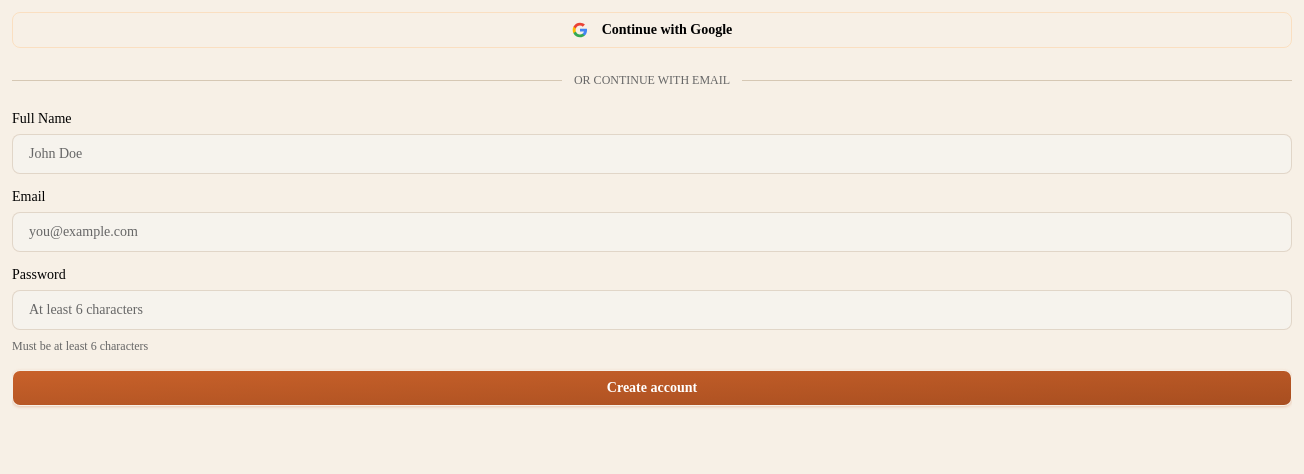
Test: SignupForm › clears errors on field input change
Click the button "Create account" at {"x": 652, "y": 388}, box x1=12 y1=370 x2=1292 y2=406
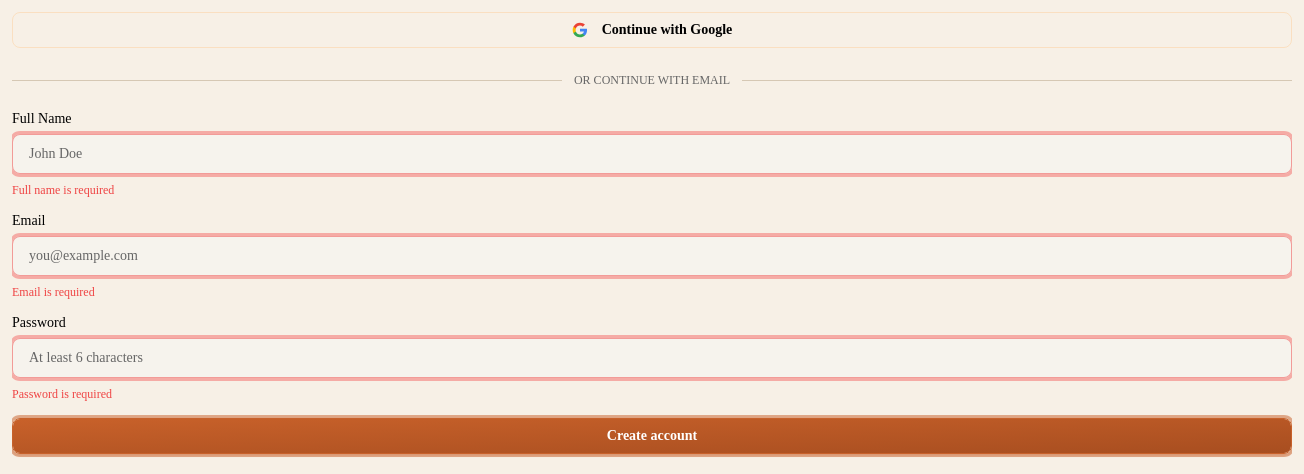
Result: the text "Full name is required" is shown at x1=12 y1=183 x2=114 y2=197
Type "J" into the field labelled "Full Name" at {"x": 652, "y": 154}, box x1=12 y1=134 x2=1292 y2=174
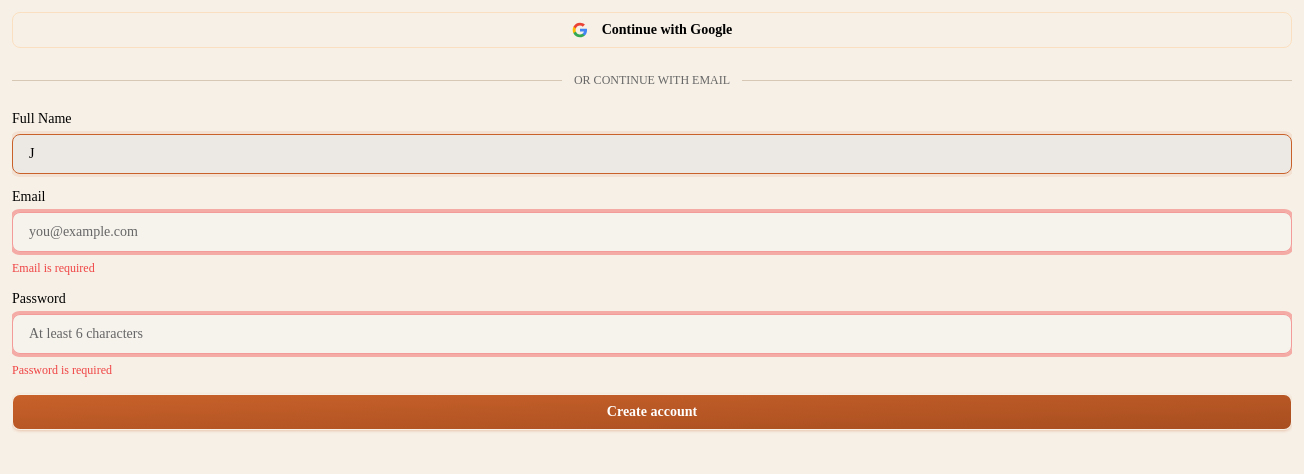
Result: the text "Full name is required" is gone
